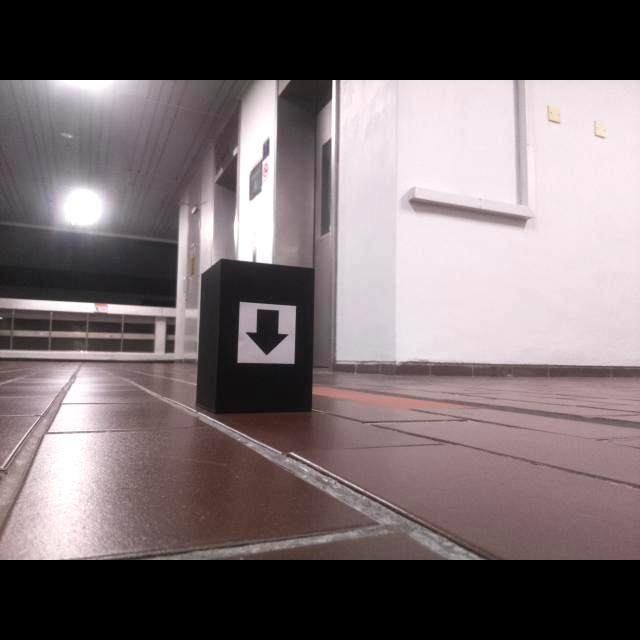DOWN: (244, 308, 290, 356)
